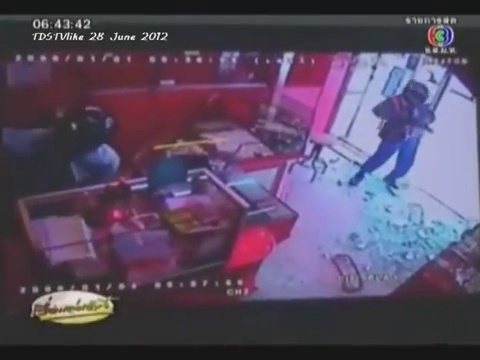helmet: (52, 105, 116, 155), (405, 78, 431, 105)
